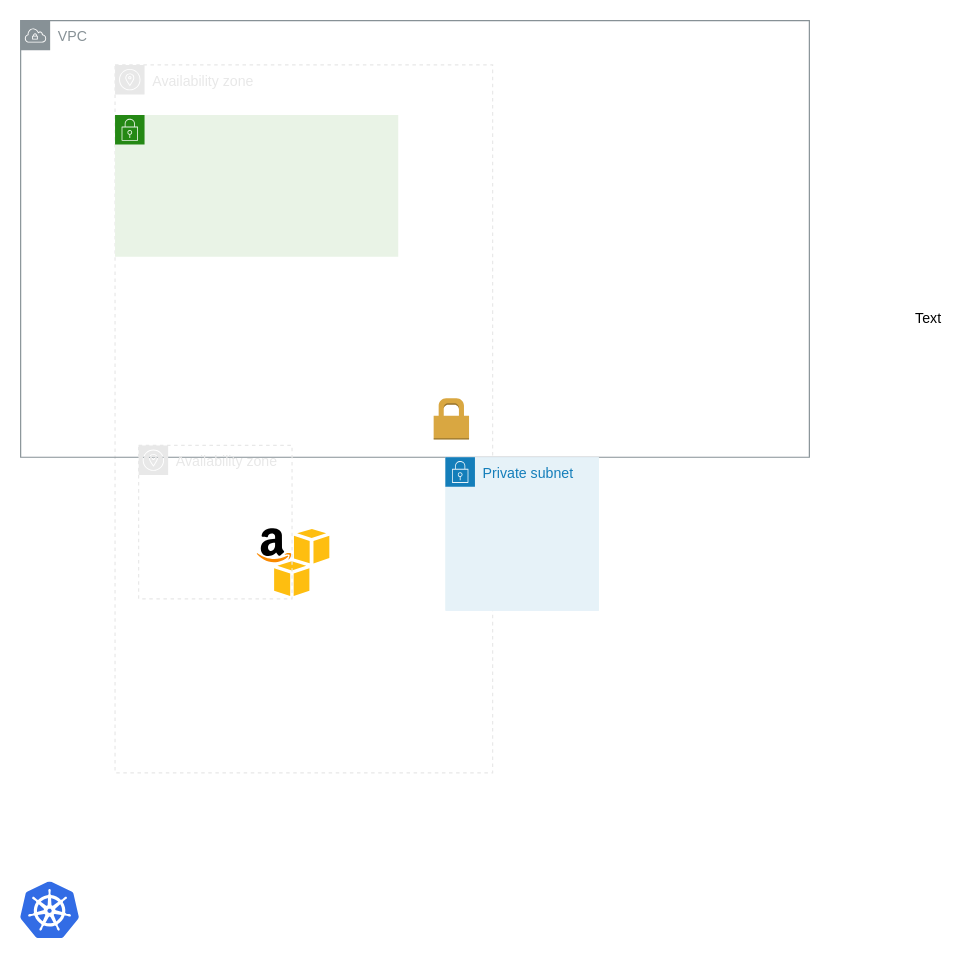
This 972x959 diagram has some shape labels left out. Each missing label, with the centre of its shape:
"AWS Customer Account" goes at [292,561].
"Public subnet" goes at [256,185].
